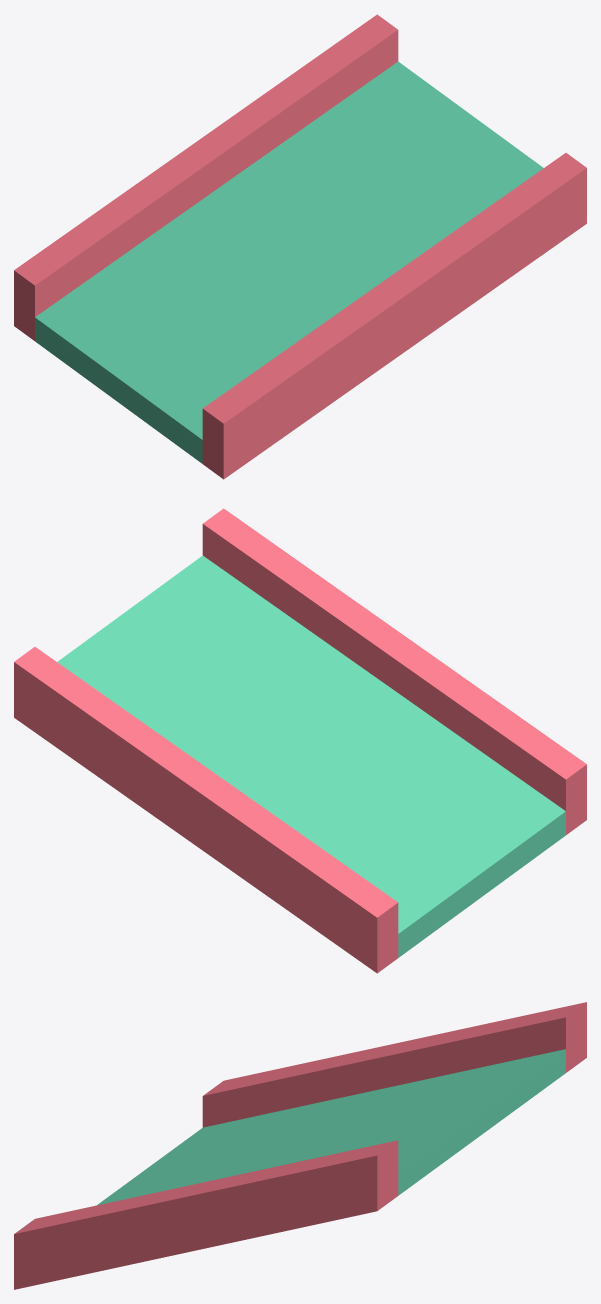
File: RampcC_RotatedAgain.fbx
3 views of the same model, one above another, from view 1: azimuth 30°, elevation 25°; view 2: azimuth 150°, elevation 25°; view 3: azimuth 330°, elevation 25° (orthographic).
Visible parts, largest first — view 1: rampC, Borders; view 2: rampC, Borders; view 3: Borders, rampC.
Boxes of the visible parts, bbox=[...] form: rampC: bbox=[35, 61, 543, 463]; Borders: bbox=[14, 14, 586, 479]; rampC: bbox=[57, 555, 565, 957]; Borders: bbox=[14, 508, 586, 973]; Borders: bbox=[14, 1002, 586, 1289]; rampC: bbox=[97, 1049, 565, 1205].
Bounding box in the file's own units: 99.99 × 58.66 × 99.99.
